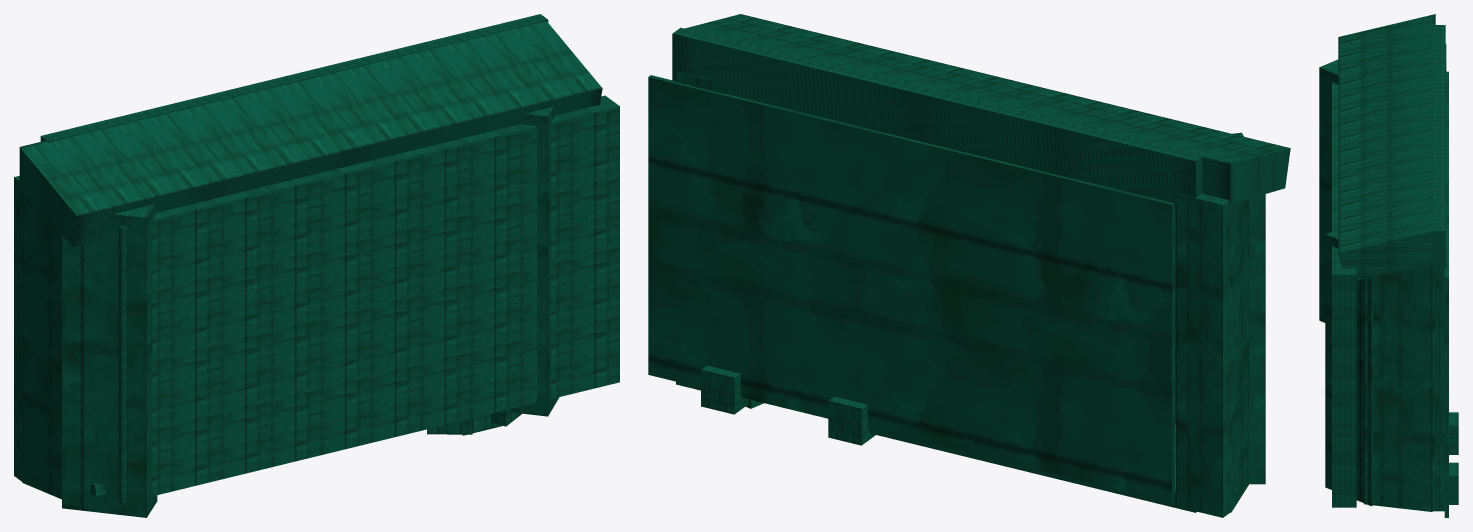
The model's file is room5dp_wtf.obj.
The picture shows the model from 3 angles, left to right: view 1: azimuth 30°, elevation 25°; view 2: azimuth 150°, elevation 25°; view 3: azimuth 270°, elevation 25°; orthographic projection. The views are drawn at different scales.
Parts seen in each view (by area): view 1: group2; view 2: group2; view 3: group2.
Boxes of the visible parts, <box> form: group2: <box>14,14,619,517</box>; group2: <box>648,14,1290,517</box>; group2: <box>1319,14,1458,517</box>.
Bounding box in the file's own units: 660 × 404 × 172.
